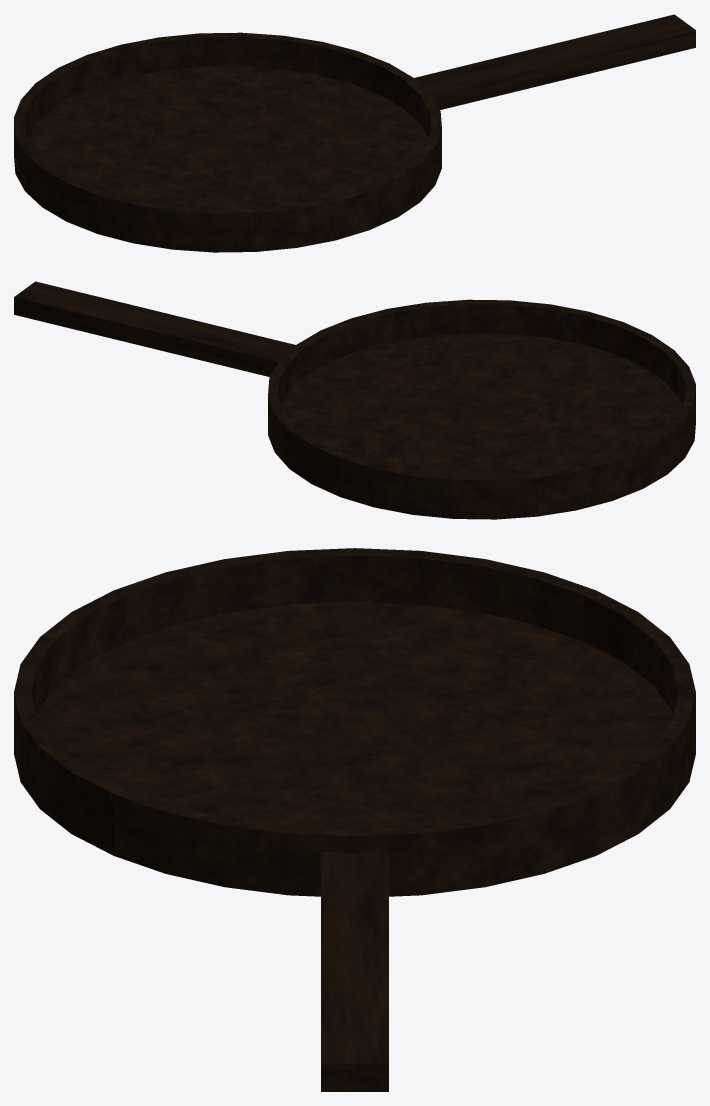
Rendered from pan.fbx.
3 renders of one model, top to bottom at view 1: azimuth 30°, elevation 25°; view 2: azimuth 150°, elevation 25°; view 3: azimuth 270°, elevation 25°, orthographic. The views are drawn at different scales.
Visible parts, largest first — view 1: Cylinder, Cube; view 2: Cylinder, Cube; view 3: Cylinder, Cube.
Boxes of the visible parts, box(x1,y1,x2,y2) form: Cylinder: box(14, 32, 441, 252); Cube: box(414, 14, 695, 109); Cylinder: box(268, 299, 695, 519); Cube: box(14, 281, 295, 376); Cylinder: box(14, 548, 695, 896); Cube: box(321, 852, 388, 1091).
Bounding box in the file's own units: 55.38 × 3.2 × 32.
Materials: 1 (1 with a texture image).
